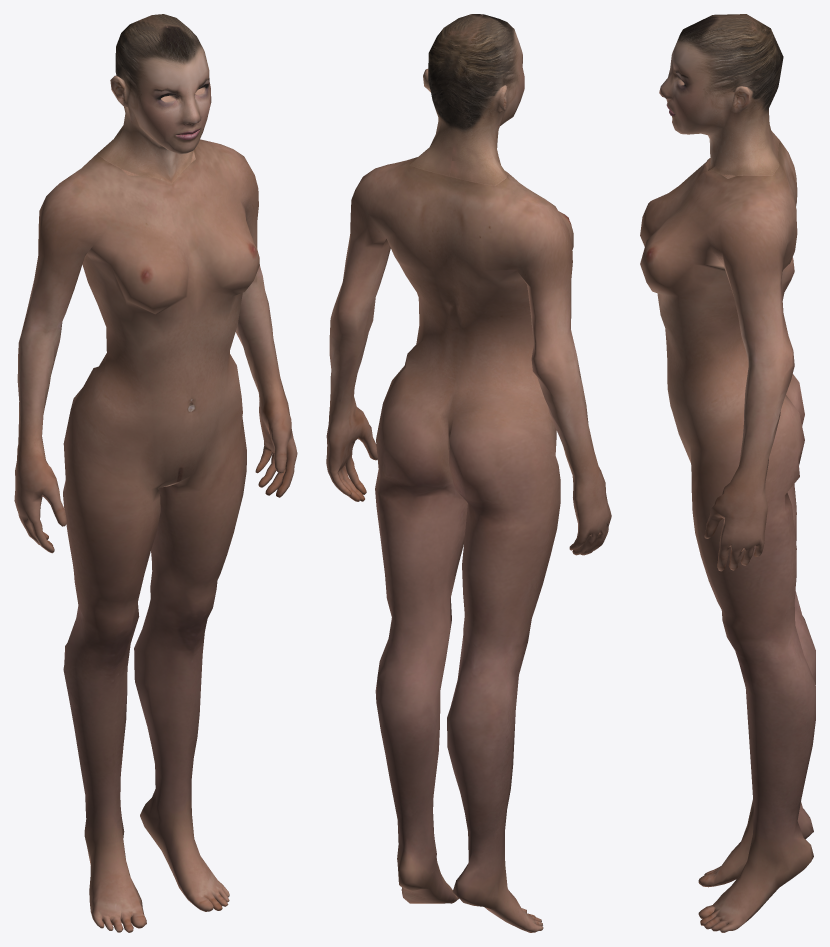
Rendered from Woman_Low.obj.
3 views of the same model, side by side, from view 1: azimuth 30°, elevation 25°; view 2: azimuth 150°, elevation 25°; view 3: azimuth 270°, elevation 25° (orthographic).
Parts seen in each view (by area): view 1: ZBaseF1:Group1444 ZBaseF1:polySurface1, ZBaseF1:Group45821 ZBaseF1:polySurface1, ZBaseF1:Group26815 ZBaseF1:polySurface1, ZBaseF1:Group11990 ZBaseF1:polySurface1, ZBaseF1:Group40038 ZBaseF1:polySurface1, ZBaseF1:Group57040 ZBaseF1:polySurface1; view 2: ZBaseF1:Group45821 ZBaseF1:polySurface1, ZBaseF1:Group1444 ZBaseF1:polySurface1, ZBaseF1:Group26815 ZBaseF1:polySurface1, ZBaseF1:Group11990 ZBaseF1:polySurface1, ZBaseF1:Group40038 ZBaseF1:polySurface1, ZBaseF1:Group57040 ZBaseF1:polySurface1; view 3: ZBaseF1:Group45821 ZBaseF1:polySurface1, ZBaseF1:Group1444 ZBaseF1:polySurface1, ZBaseF1:Group26815 ZBaseF1:polySurface1, ZBaseF1:Group11990 ZBaseF1:polySurface1, ZBaseF1:Group40038 ZBaseF1:polySurface1, ZBaseF1:Group57040 ZBaseF1:polySurface1.
Part boxes in pixels (bbox=[...]): ZBaseF1:Group1444 ZBaseF1:polySurface1: bbox=[70, 159, 259, 489]; ZBaseF1:Group45821 ZBaseF1:polySurface1: bbox=[63, 387, 246, 834]; ZBaseF1:Group26815 ZBaseF1:polySurface1: bbox=[17, 139, 284, 459]; ZBaseF1:Group11990 ZBaseF1:polySurface1: bbox=[97, 14, 211, 183]; ZBaseF1:Group40038 ZBaseF1:polySurface1: bbox=[84, 789, 229, 932]; ZBaseF1:Group57040 ZBaseF1:polySurface1: bbox=[14, 393, 297, 553]; ZBaseF1:Group45821 ZBaseF1:polySurface1: bbox=[375, 393, 560, 867]; ZBaseF1:Group1444 ZBaseF1:polySurface1: bbox=[380, 165, 573, 455]; ZBaseF1:Group26815 ZBaseF1:polySurface1: bbox=[329, 157, 598, 476]; ZBaseF1:Group11990 ZBaseF1:polySurface1: bbox=[410, 14, 524, 185]; ZBaseF1:Group40038 ZBaseF1:polySurface1: bbox=[397, 836, 543, 932]; ZBaseF1:Group57040 ZBaseF1:polySurface1: bbox=[326, 407, 611, 555]; ZBaseF1:Group45821 ZBaseF1:polySurface1: bbox=[691, 374, 815, 848]; ZBaseF1:Group1444 ZBaseF1:polySurface1: bbox=[640, 140, 797, 480]; ZBaseF1:Group26815 ZBaseF1:polySurface1: bbox=[706, 175, 794, 487]; ZBaseF1:Group11990 ZBaseF1:polySurface1: bbox=[659, 14, 783, 178]; ZBaseF1:Group40038 ZBaseF1:polySurface1: bbox=[698, 800, 813, 932]; ZBaseF1:Group57040 ZBaseF1:polySurface1: bbox=[704, 483, 768, 571].
Bounding box in the file's own units: 5.66 × 17.83 × 3.21.
2 materials, 2 textured.
